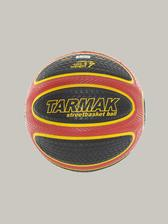other: (20, 48, 151, 175)
